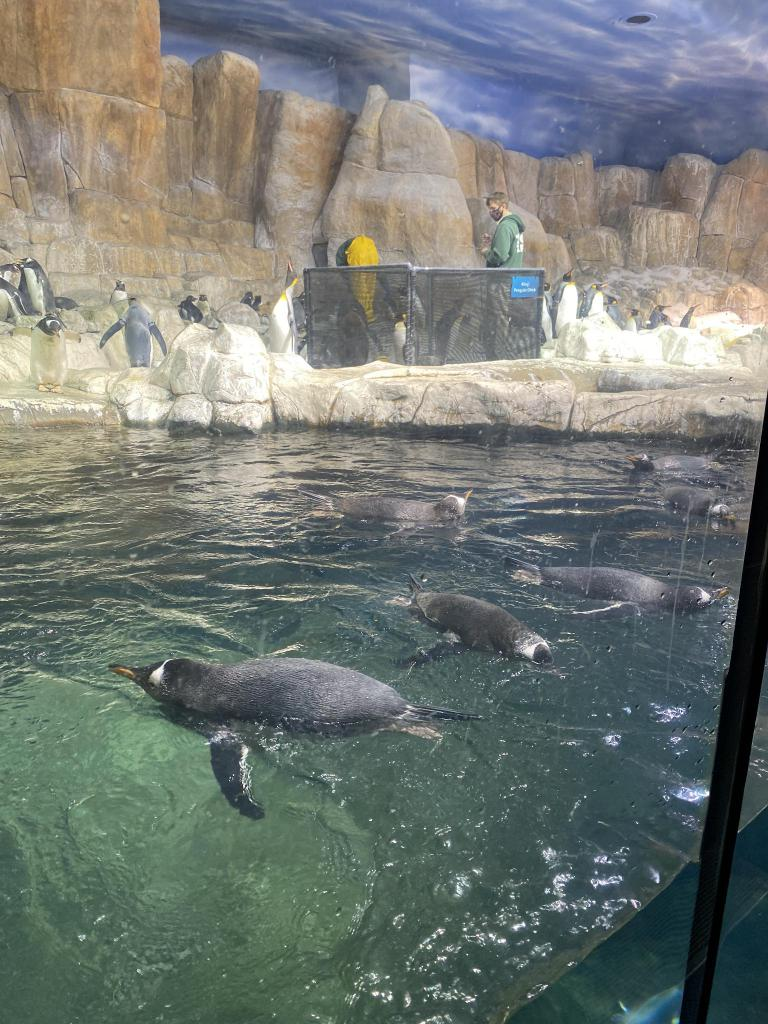penguin: (106, 654, 484, 810), (504, 550, 728, 632), (400, 578, 560, 682), (328, 480, 478, 536), (628, 452, 734, 486), (116, 296, 164, 370), (668, 490, 736, 534), (274, 257, 302, 359), (440, 290, 474, 360), (388, 299, 422, 365), (20, 254, 54, 318), (550, 265, 582, 331), (174, 294, 210, 332), (0, 282, 21, 327), (584, 278, 604, 322), (109, 276, 131, 312), (2, 252, 22, 290), (626, 306, 648, 336), (605, 290, 621, 324), (681, 304, 699, 330), (649, 304, 667, 330)
